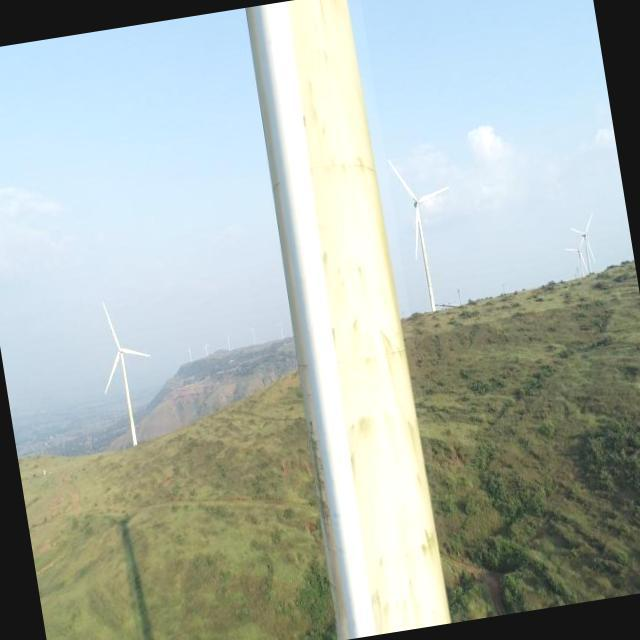Dirt: (264, 0, 455, 634)
